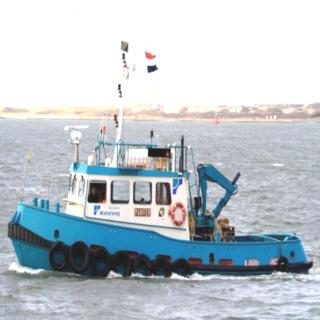Tug Boat: (10, 20, 255, 284)
